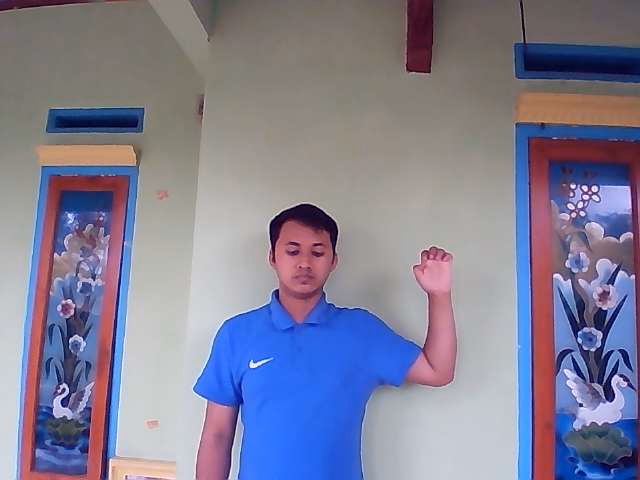E: (411, 245, 455, 292)
